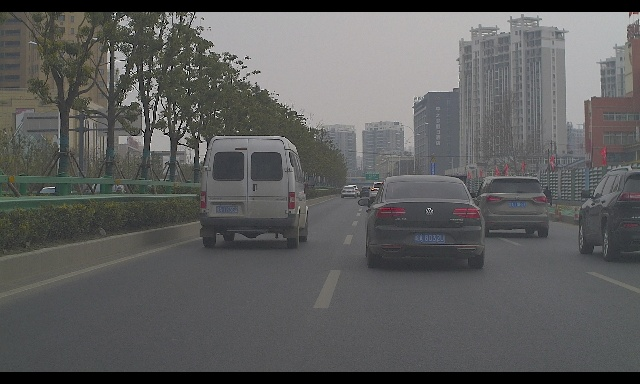bicycle: (541, 186, 552, 209)
car: (199, 135, 315, 248), (358, 175, 485, 269), (577, 166, 640, 261), (468, 175, 549, 237), (367, 181, 392, 204), (341, 186, 358, 198), (347, 185, 359, 197), (360, 186, 372, 198)
